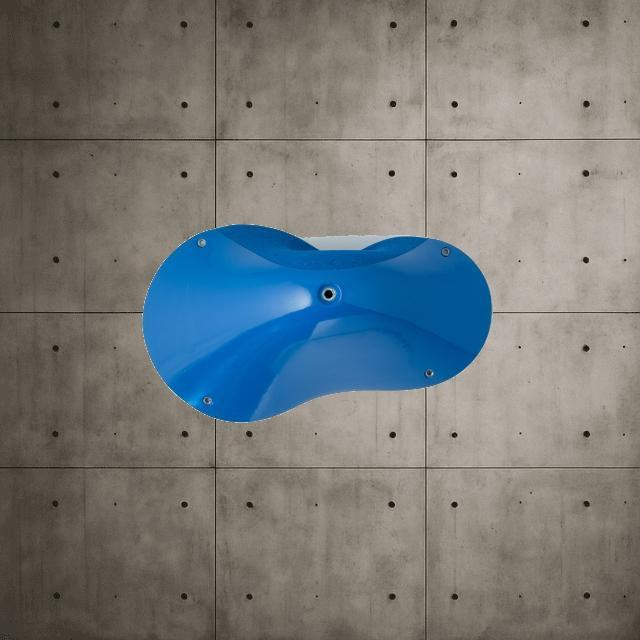Sloper: (142, 223, 492, 422)
